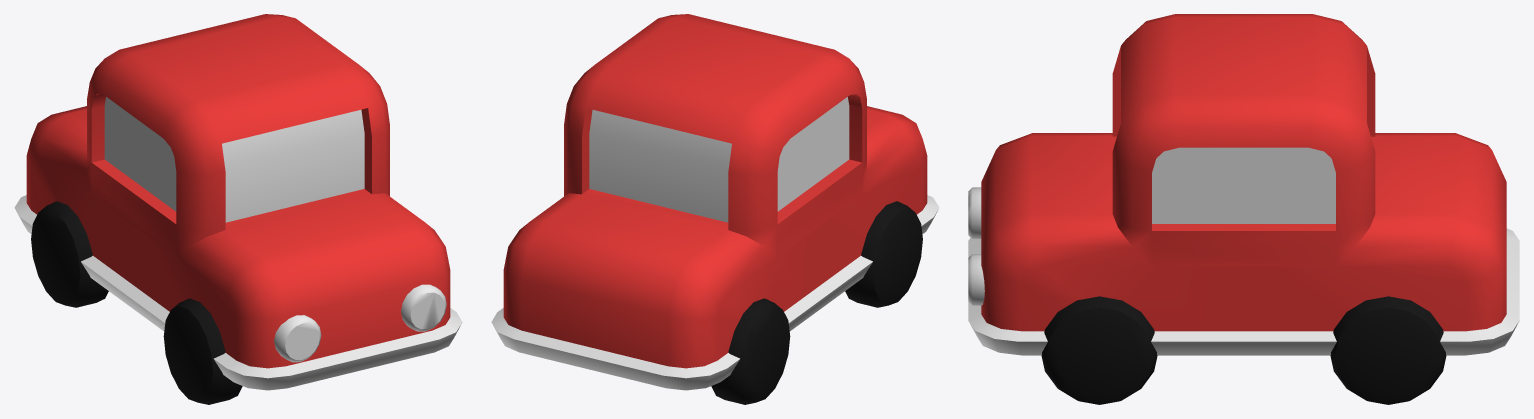
Rendered from car1.fbx.
3 renders of one model, left to right at view 1: azimuth 30°, elevation 25°; view 2: azimuth 150°, elevation 25°; view 3: azimuth 270°, elevation 25°, orthographic. The views are drawn at different scales.
Parts seen in each view (by area): view 1: Cube; view 2: Cube; view 3: Cube.
Part boxes in pixels (<box>): Cube: <box>14,14,462,404</box>; Cube: <box>491,14,939,404</box>; Cube: <box>968,14,1519,404</box>.
Bounding box in the file's own units: 2.31 × 2.45 × 4.2.
